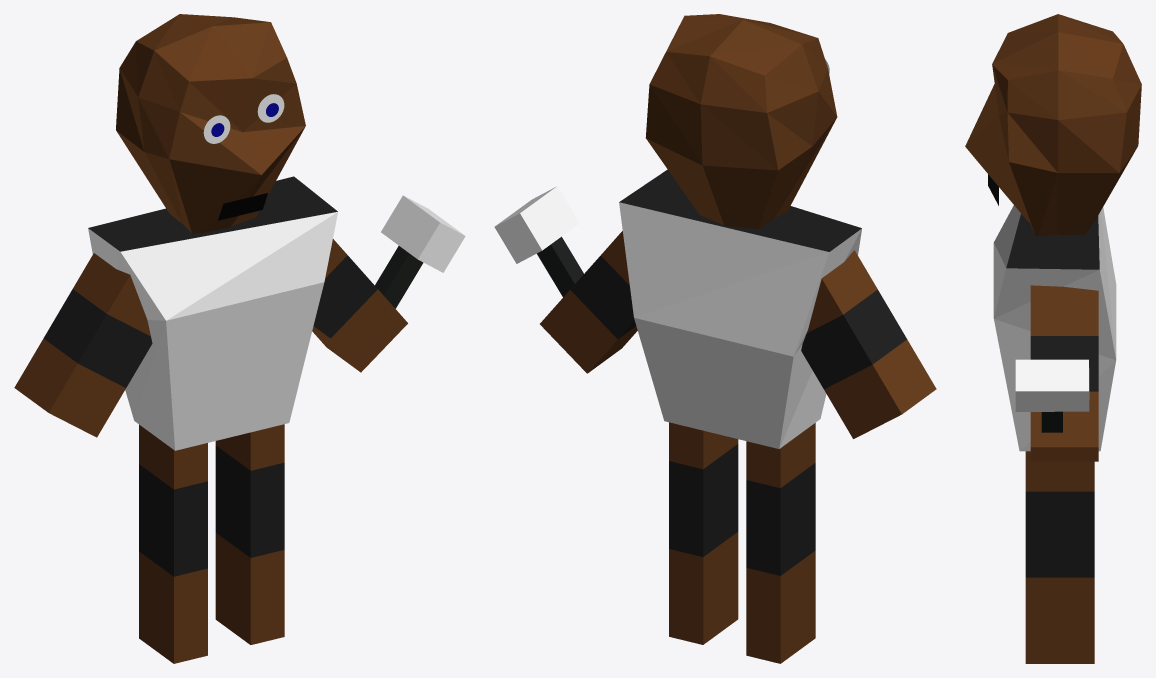
The model's file is slave1.obj.
3 renders of one model, left to right at view 1: azimuth 30°, elevation 25°; view 2: azimuth 150°, elevation 25°; view 3: azimuth 270°, elevation 25°, orthographic.
Parts seen in each view (by area): view 1: Cube.001, Cube, Cube.004, Cube.005, Cube.003, Cube.002, Cube.008, Cube.007, Plane; view 2: Cube.001, Cube, Cube.004, Cube.005, Cube.003, Cube.002, Cube.008, Cube.007; view 3: Cube, Cube.005, Cube.001, Cube.002, Cube.008, Cube.007.
Part boxes in pixels (box(x1,y1,x2,y2)): Cube.001: box(88, 176, 337, 450); Cube: box(116, 14, 305, 233); Cube.004: box(139, 424, 207, 663); Cube.005: box(215, 424, 284, 644); Cube.003: box(14, 253, 152, 437); Cube.002: box(312, 239, 407, 372); Cube.008: box(381, 195, 465, 272); Cube.007: box(375, 246, 423, 308); Plane: box(218, 193, 267, 220); Cube.001: box(619, 169, 861, 448); Cube: box(645, 14, 837, 229); Cube.004: box(746, 423, 815, 663); Cube.005: box(669, 422, 738, 644); Cube.003: box(801, 250, 936, 438); Cube.002: box(540, 231, 637, 373); Cube.008: box(494, 186, 579, 263); Cube.007: box(537, 236, 583, 297); Cube: box(965, 14, 1141, 235); Cube.005: box(1025, 451, 1094, 663); Cube.001: box(993, 205, 1116, 451); Cube.002: box(1030, 285, 1098, 461); Cube.008: box(1015, 359, 1089, 411); Cube.007: box(1041, 411, 1062, 432).
Size of the model in its own units: 4.16 by 5.95 by 1.57.
